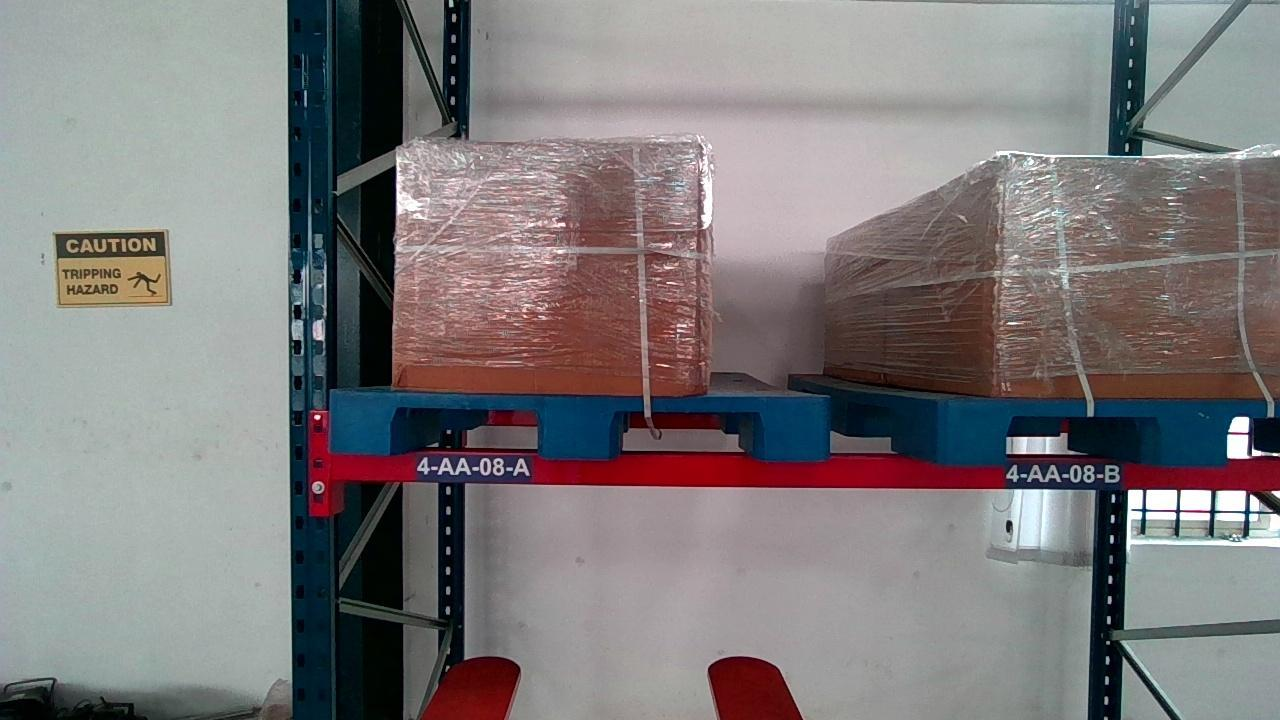h_rack: (329, 456, 1280, 488)
small_pallet: (333, 387, 832, 455), (951, 399, 1280, 461)
